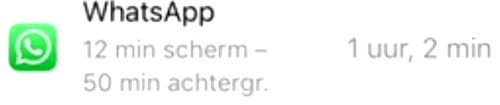name: (74, 1, 224, 29)
time: (79, 35, 161, 63), (79, 69, 164, 95)
